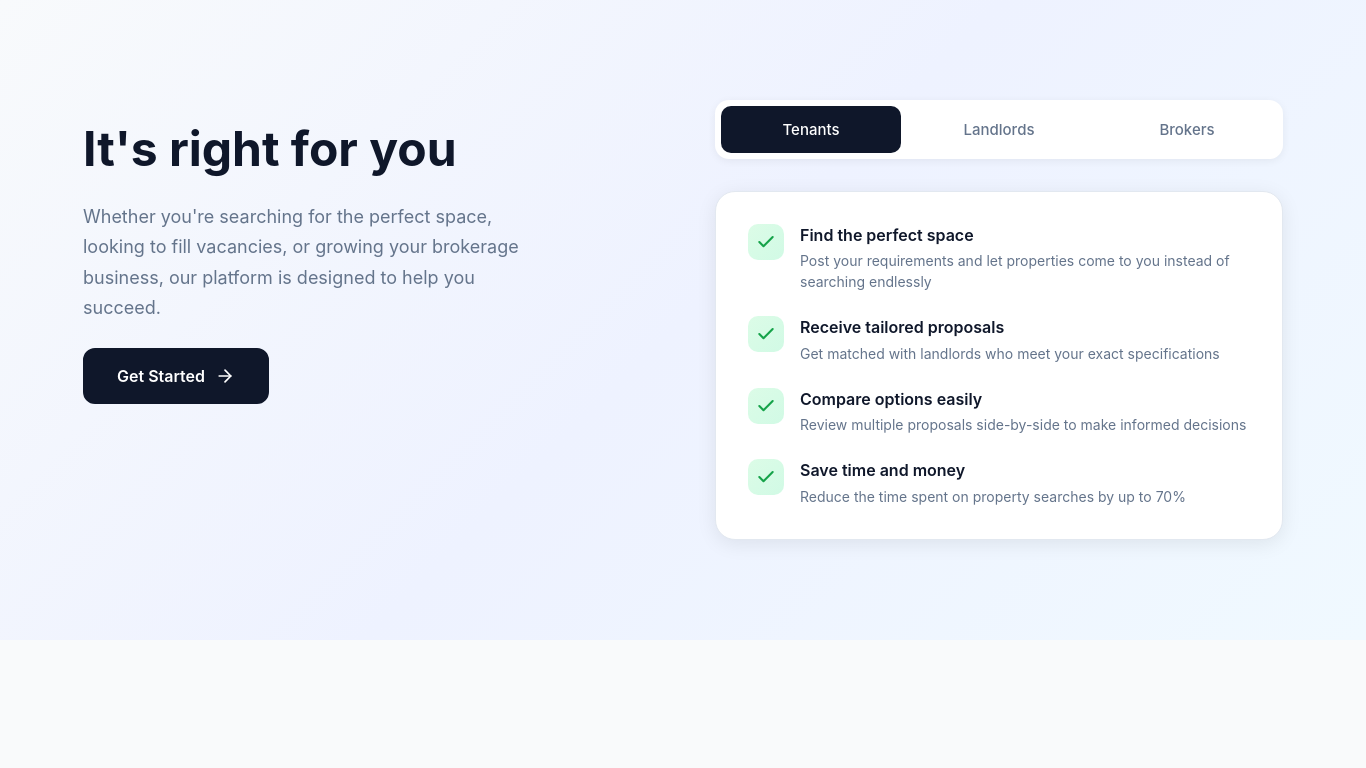
BenefitsTabs Component › displays tailored benefits list for each role when tab is selected
Expected: the heading "Find the perfect space" is shown, [800,225,974,245]
// Switch to Landlords tab
Click the tab "Landlords".
click(999, 130)  # box [909,106,1089,153]
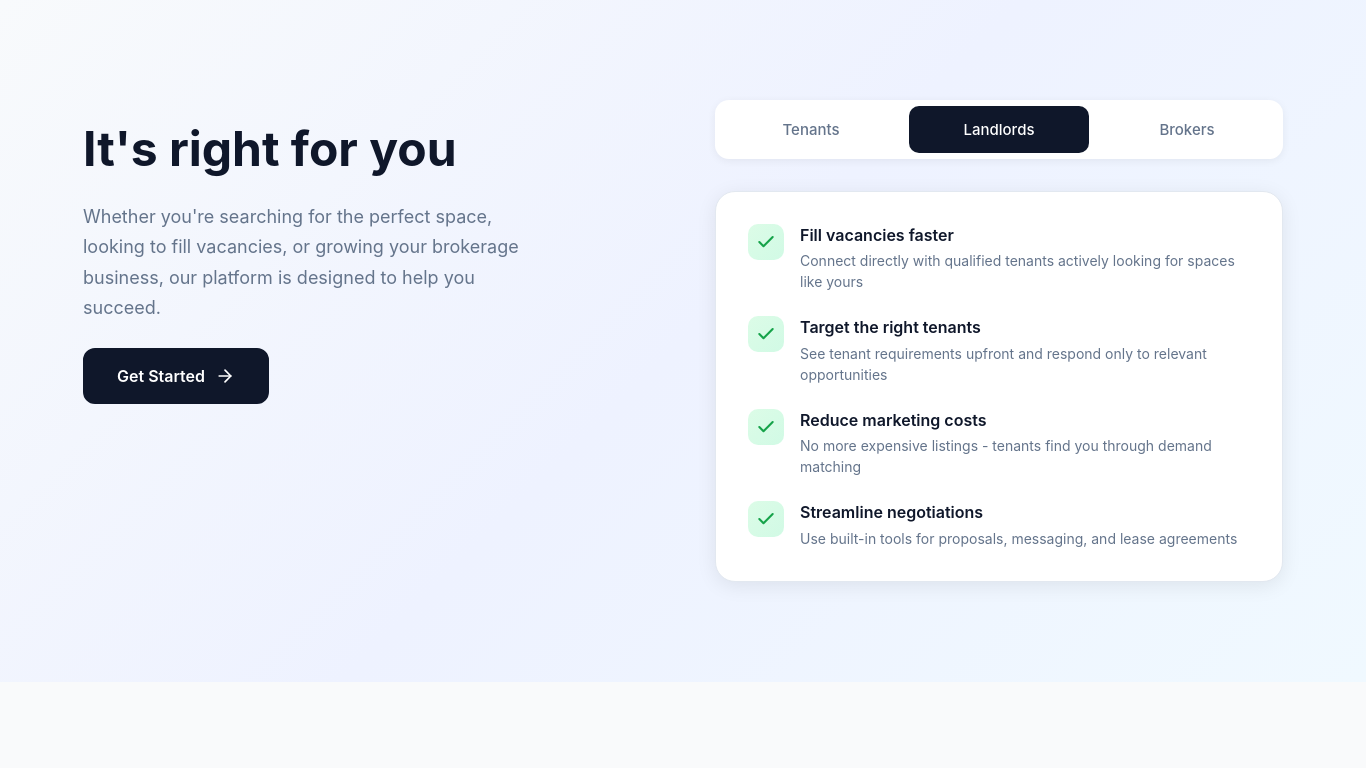
Result: the heading "Fill vacancies faster" is shown at [800,225,954,245]
// Switch to Brokers tab
Click the tab "Brokers".
click(1187, 130)  # box [1097,106,1277,153]
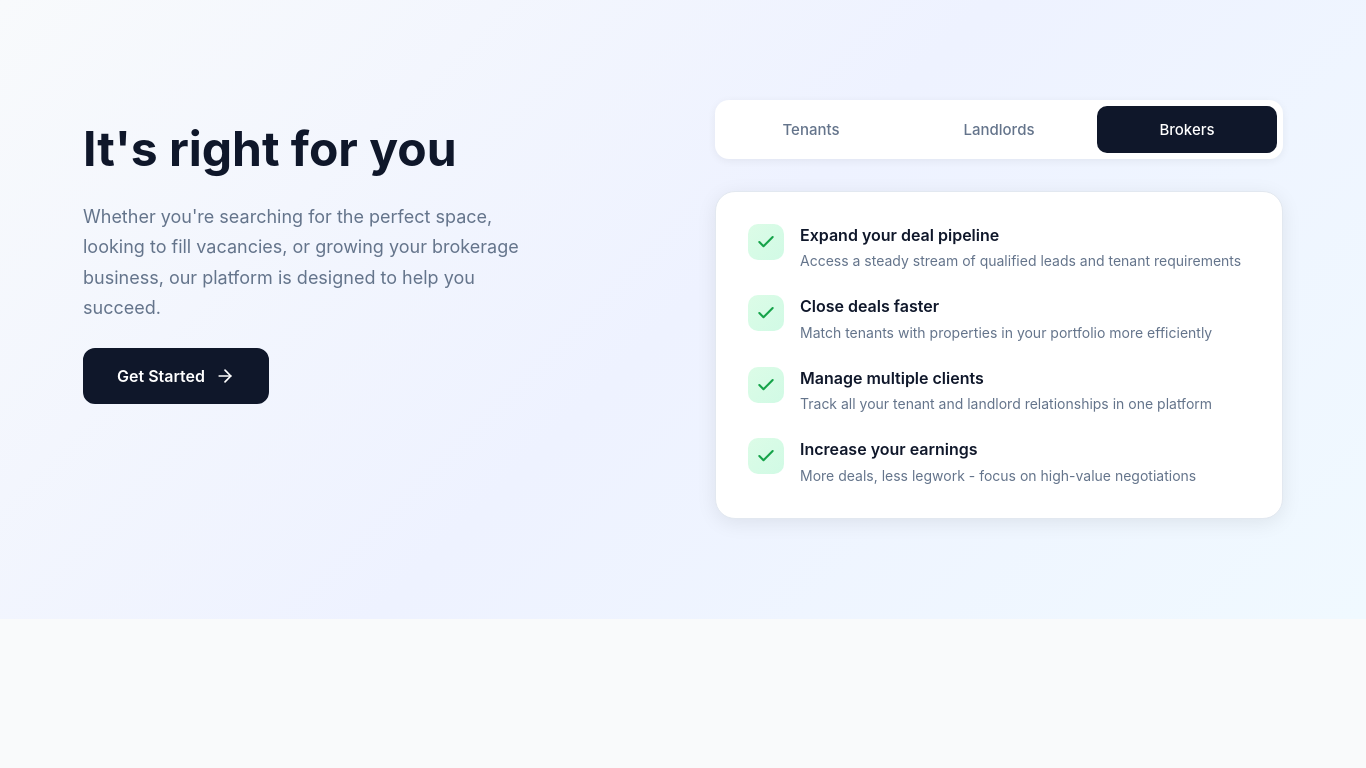
Result: the heading "Expand your deal pipeline" is shown at [800,225,999,245]
